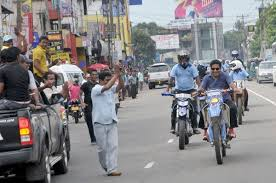helmet: (177, 49, 192, 68)
